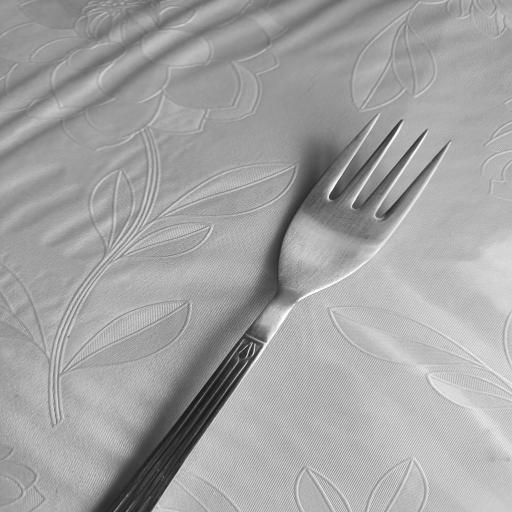fork: (101, 111, 459, 512)
